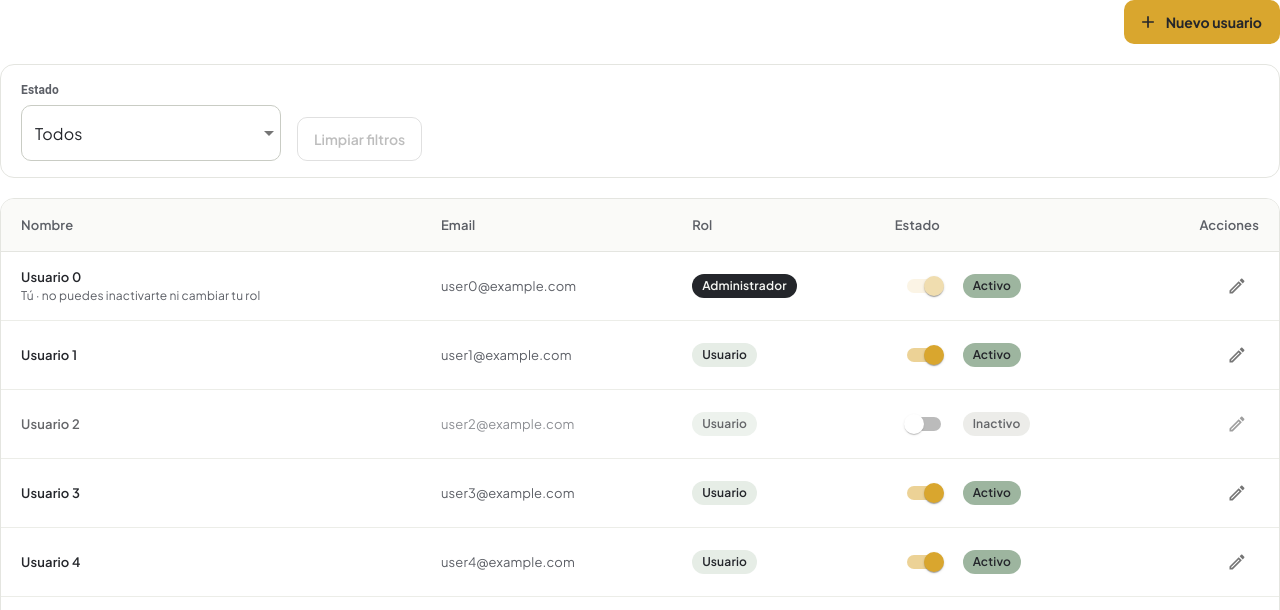
UsersPage › refreshes the session user after editing yourself
Click the button named "Editar Usuario 0" at (1237,286), box [1215,264,1259,308]
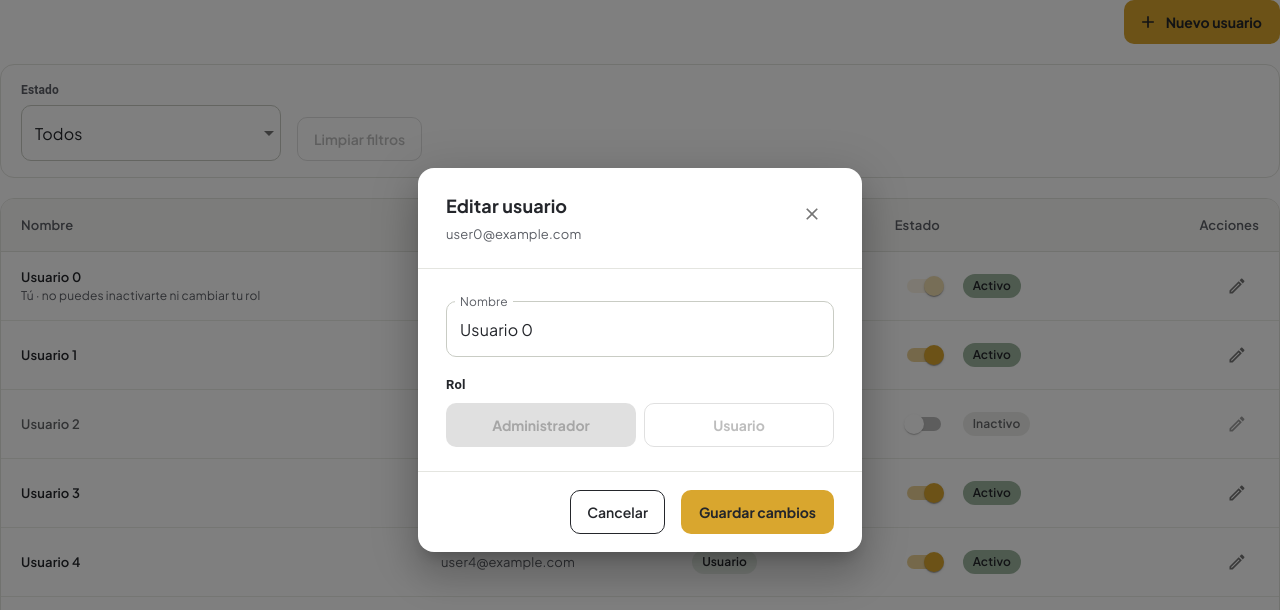
Type " Admin" into the field labelled "Nombre" at (640,329), box [446,301,834,357]
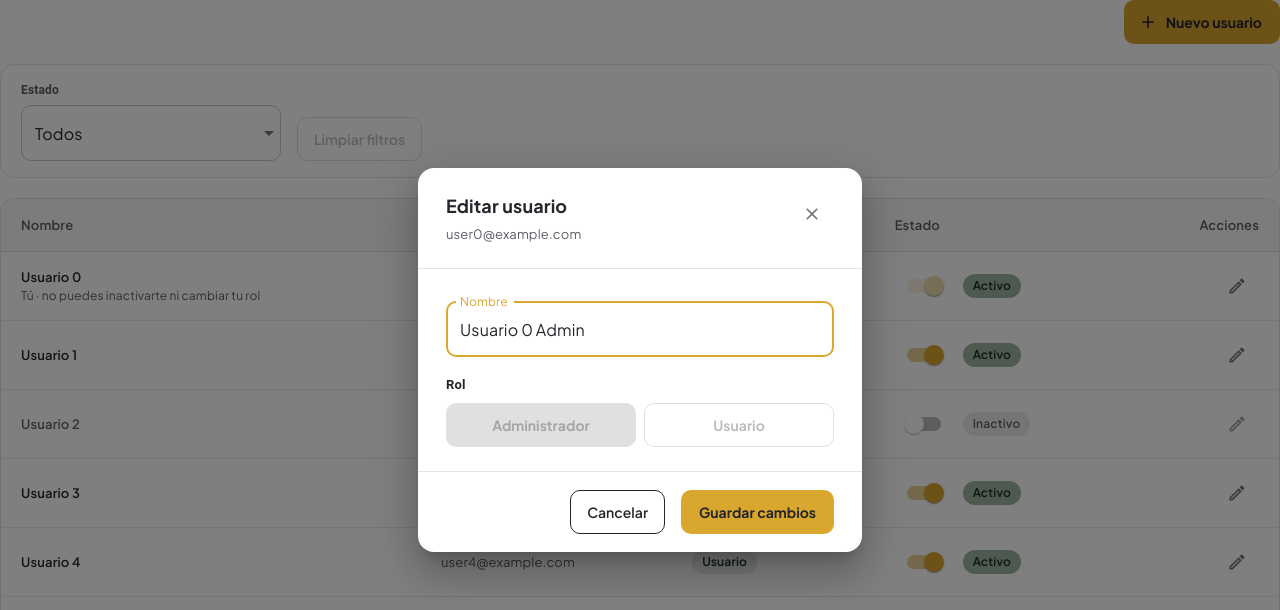
Click the button "Guardar cambios" at (758,512), box [681,490,834,534]
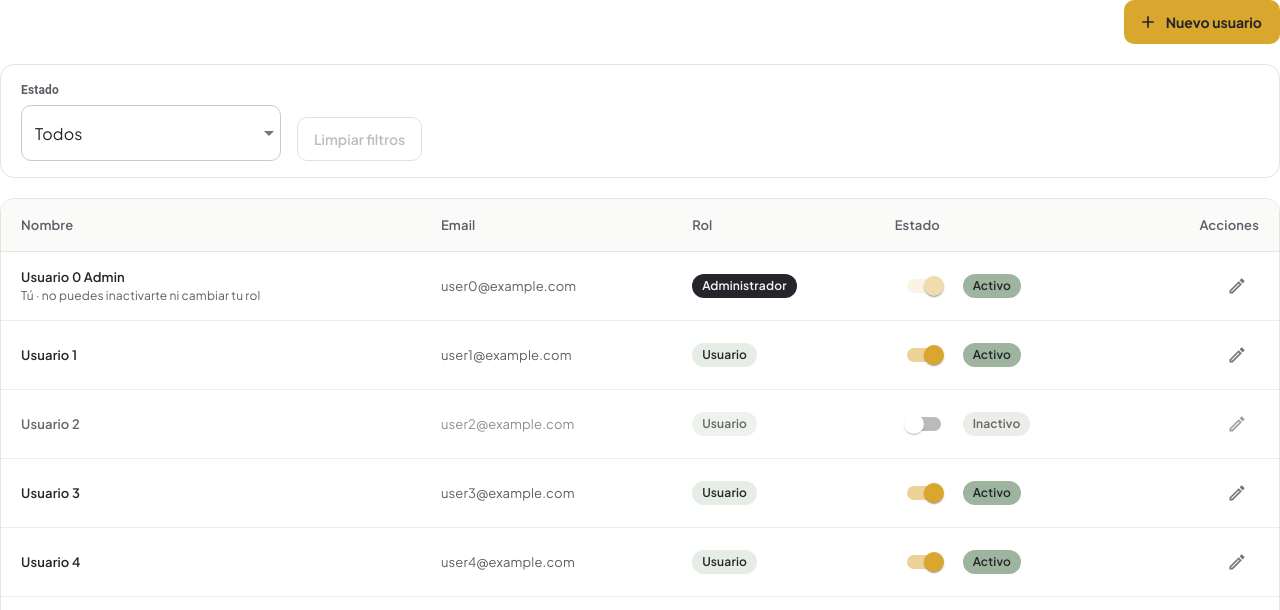
Now the text "Usuario 0 Admin" is shown, box [21,269,125,285]
